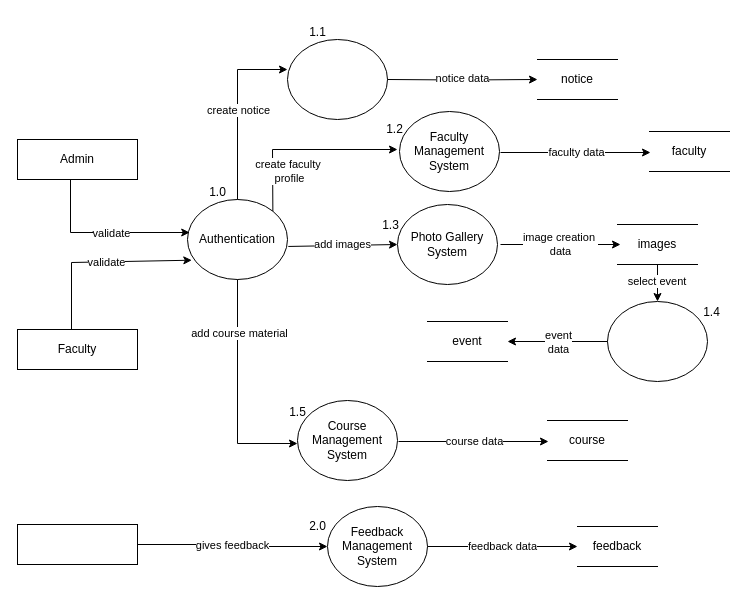
Some shapes in this 749 by 604 pixel diagram are drawn without their labels. The shapes that lost their labels are listed below. From the top down, each one's centre as x and y in pixels, then its label:
At point (337, 79): "Notice Board System".
At point (657, 341): "Event System".
At point (77, 544): "Student".
